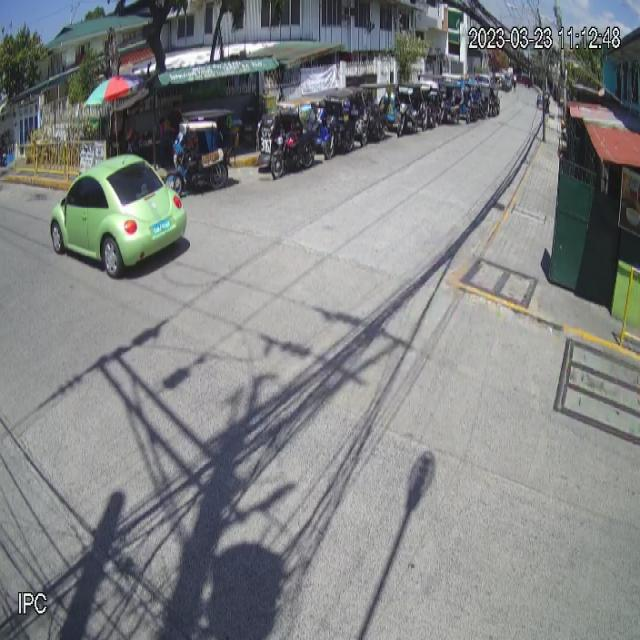Car: (50, 154, 187, 278)
Tricycle: (166, 108, 236, 196)
